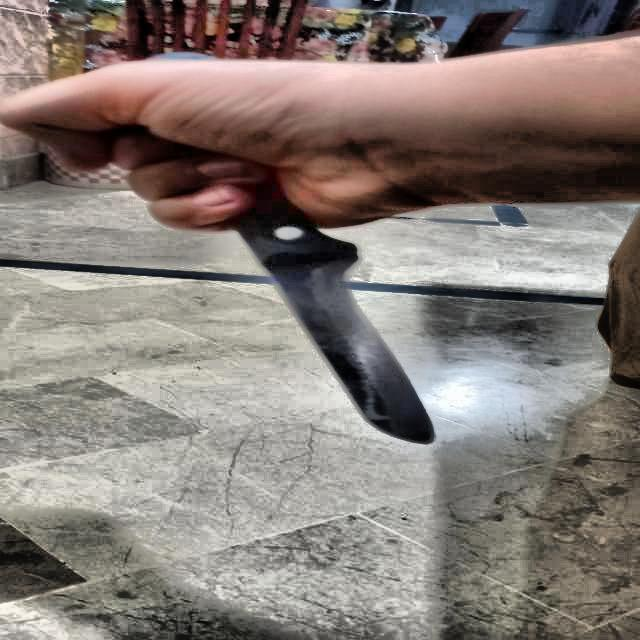knife: (233, 172, 435, 444)
